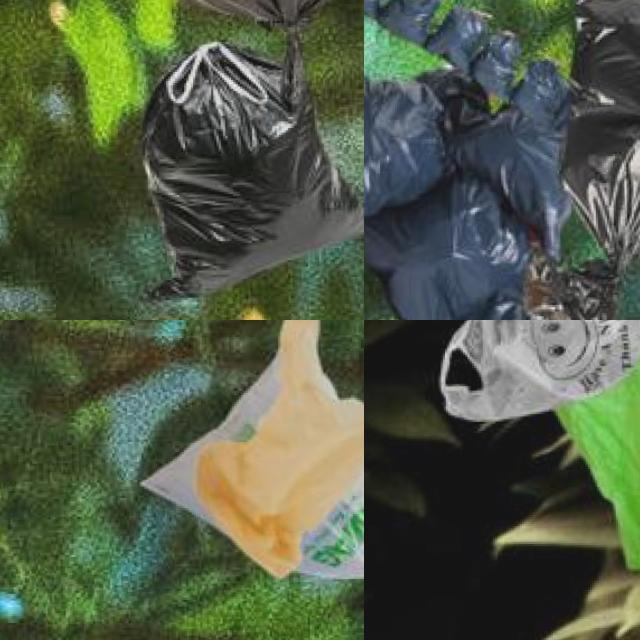waste: (143, 38, 364, 288), (161, 346, 364, 586), (207, 320, 364, 558), (364, 170, 532, 320), (454, 58, 570, 258), (464, 320, 640, 408), (574, 320, 640, 554), (364, 60, 458, 215), (569, 0, 640, 161), (467, 23, 518, 107), (431, 288, 560, 320), (513, 54, 563, 128), (443, 1, 487, 74), (386, 0, 442, 45), (364, 0, 421, 42)
